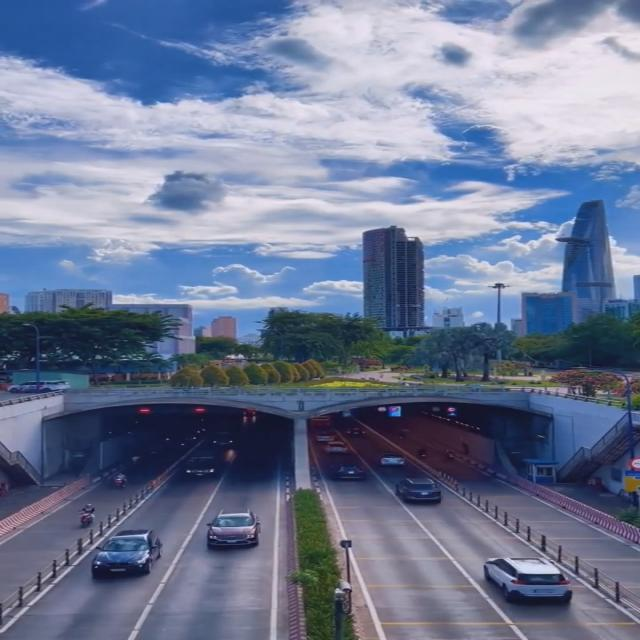car: (483, 554, 571, 606), (94, 528, 163, 580), (207, 511, 262, 552), (396, 476, 443, 504), (333, 463, 368, 481), (376, 452, 405, 467)
motorbike: (80, 500, 96, 527), (111, 471, 128, 488)
